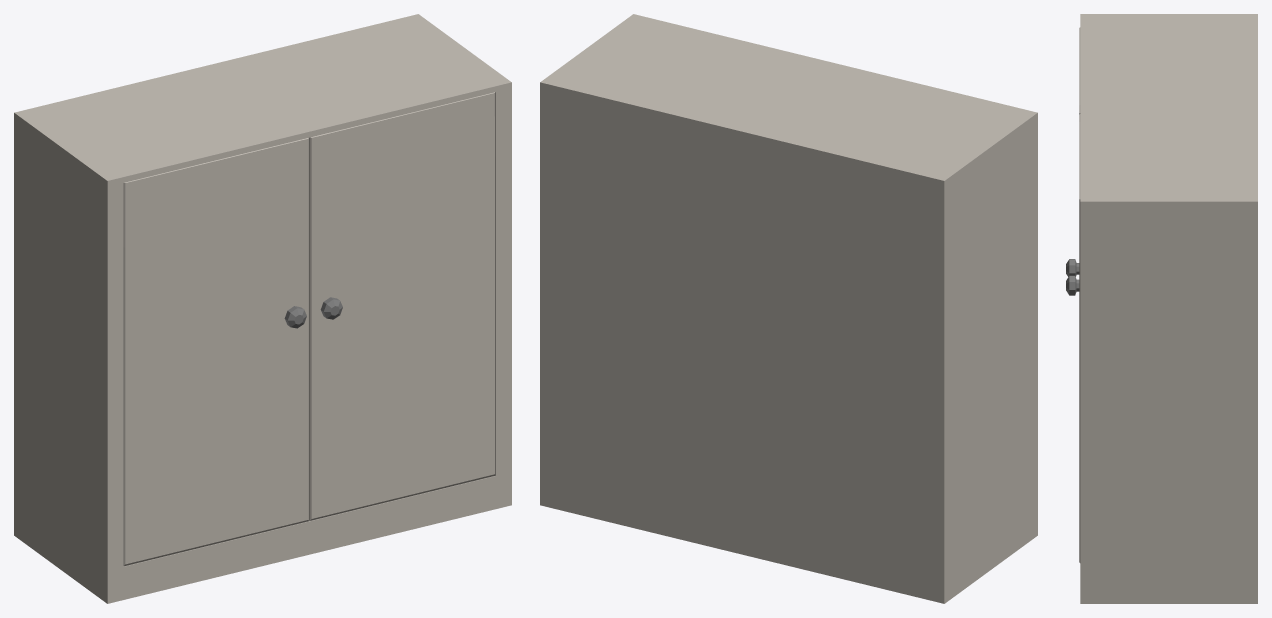
The model's file is Int_Closet01_2.fbx.
3 views of the same model, side by side, from view 1: azimuth 30°, elevation 25°; view 2: azimuth 150°, elevation 25°; view 3: azimuth 270°, elevation 25° (orthographic). The views are drawn at different scales.
Visible parts, largest first — view 1: Int_Closet01_2, Int_ClosetDoor01, Int_ClosetDoor02; view 2: Int_Closet01_2; view 3: Int_Closet01_2, Int_ClosetDoor01, Int_ClosetDoor02.
Boxes of the visible parts, left/top/right/bottom form: Int_Closet01_2: left=14, top=14, right=511, bottom=603; Int_ClosetDoor01: left=309, top=92, right=495, bottom=520; Int_ClosetDoor02: left=123, top=138, right=308, bottom=566; Int_Closet01_2: left=540, top=14, right=1037, bottom=603; Int_Closet01_2: left=1080, top=14, right=1257, bottom=603; Int_ClosetDoor01: left=1066, top=114, right=1080, bottom=562; Int_ClosetDoor02: left=1066, top=27, right=1080, bottom=276.
Size of what is drawn, in the model's own units: 125 by 53.95 by 125.
